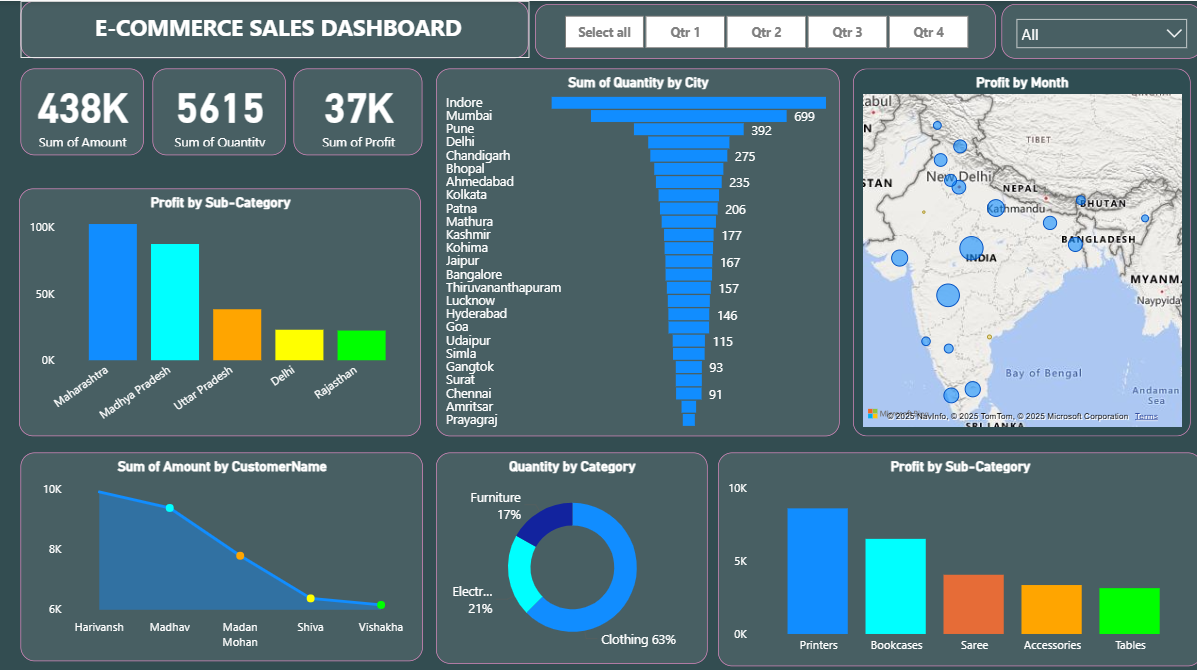

The page's visual inventory and layout, read from the dashboard file:
{"tool":"powerbi","page":{"name":"Page 1","canvas":[1280,720],"ordinal":0},"visuals":[{"type":"textbox","box":[26.9,0,538.6,60.9],"z":0},{"type":"map","title":"Profit by Month","fields":{"Size":["Details.Profit"],"Category":["Orders.State"]},"box":[909.8,71.6,357.9,389.7],"z":1000},{"type":"columnChart","title":"Profit by Sub-Category","fields":{"Category":["Details.Sub-Category"],"Y":["Details.Profit"]},"box":[766.8,479.1,513.1,226.8],"z":2000},{"type":"pieChart","title":"Quantity by Category","fields":{"Category":["Details.Category"],"Y":["Details.Quantity"]},"box":[467.6,478.8,287.9,224.3],"z":3000},{"type":"card","fields":{"Values":["Details.Amount"]},"box":[26.9,72.3,130.4,92.1],"z":5000},{"type":"card","fields":{"Values":["Details.Quantity"]},"box":[167,71.6,141.6,92.3],"z":6000},{"type":"card","fields":{"Values":["Details.Profit"]},"box":[316.5,71.6,136.8,92.3],"z":7000},{"type":"columnChart","title":"Profit by Sub-Category","fields":{"Category":["Orders.State"],"Y":["Details.Amount"]},"box":[25.4,198.8,426.3,262.5],"z":9000},{"type":"areaChart","fields":{"Category":["Orders.CustomerName"],"Y":["Details.Amount"]},"box":[26.9,479.1,426.6,221.1],"z":10000},{"type":"slicer","fields":{"Values":["Orders.Order Date.Variation.Date Hierarchy.Quarter"]},"box":[572.6,2.8,489,58.1],"z":11000},{"type":"slicer","fields":{"Values":["Orders.State"]},"box":[1067.2,2.8,212.6,58.1],"z":12000},{"type":"funnel","fields":{"Category":["Orders.City"],"Y":["Details.Quantity"]},"box":[467.6,71.6,427.9,389.7],"z":12001}]}

Visuals, with their boxes in screenshot pixels (x1, y1, x2, y2), scaled from the page's 1280x720 canvas onto the 1197x670 screenshot:
textbox: box=[25, 0, 529, 57]
"Profit by Month" map: box=[851, 67, 1185, 429]
"Profit by Sub-Category" columnChart: box=[717, 446, 1196, 657]
"Quantity by Category" pieChart: box=[437, 446, 707, 654]
card - Details.Amount: box=[25, 67, 147, 153]
card - Details.Quantity: box=[156, 67, 289, 153]
card - Details.Profit: box=[296, 67, 424, 153]
"Profit by Sub-Category" columnChart: box=[24, 185, 422, 429]
areaChart - Orders.CustomerName x Details.Amount: box=[25, 446, 424, 652]
slicer - Orders.Order Date.Variation.Date Hierarchy.Quarter: box=[535, 3, 993, 57]
slicer - Orders.State: box=[998, 3, 1196, 57]
funnel - Orders.City x Details.Quantity: box=[437, 67, 837, 429]
